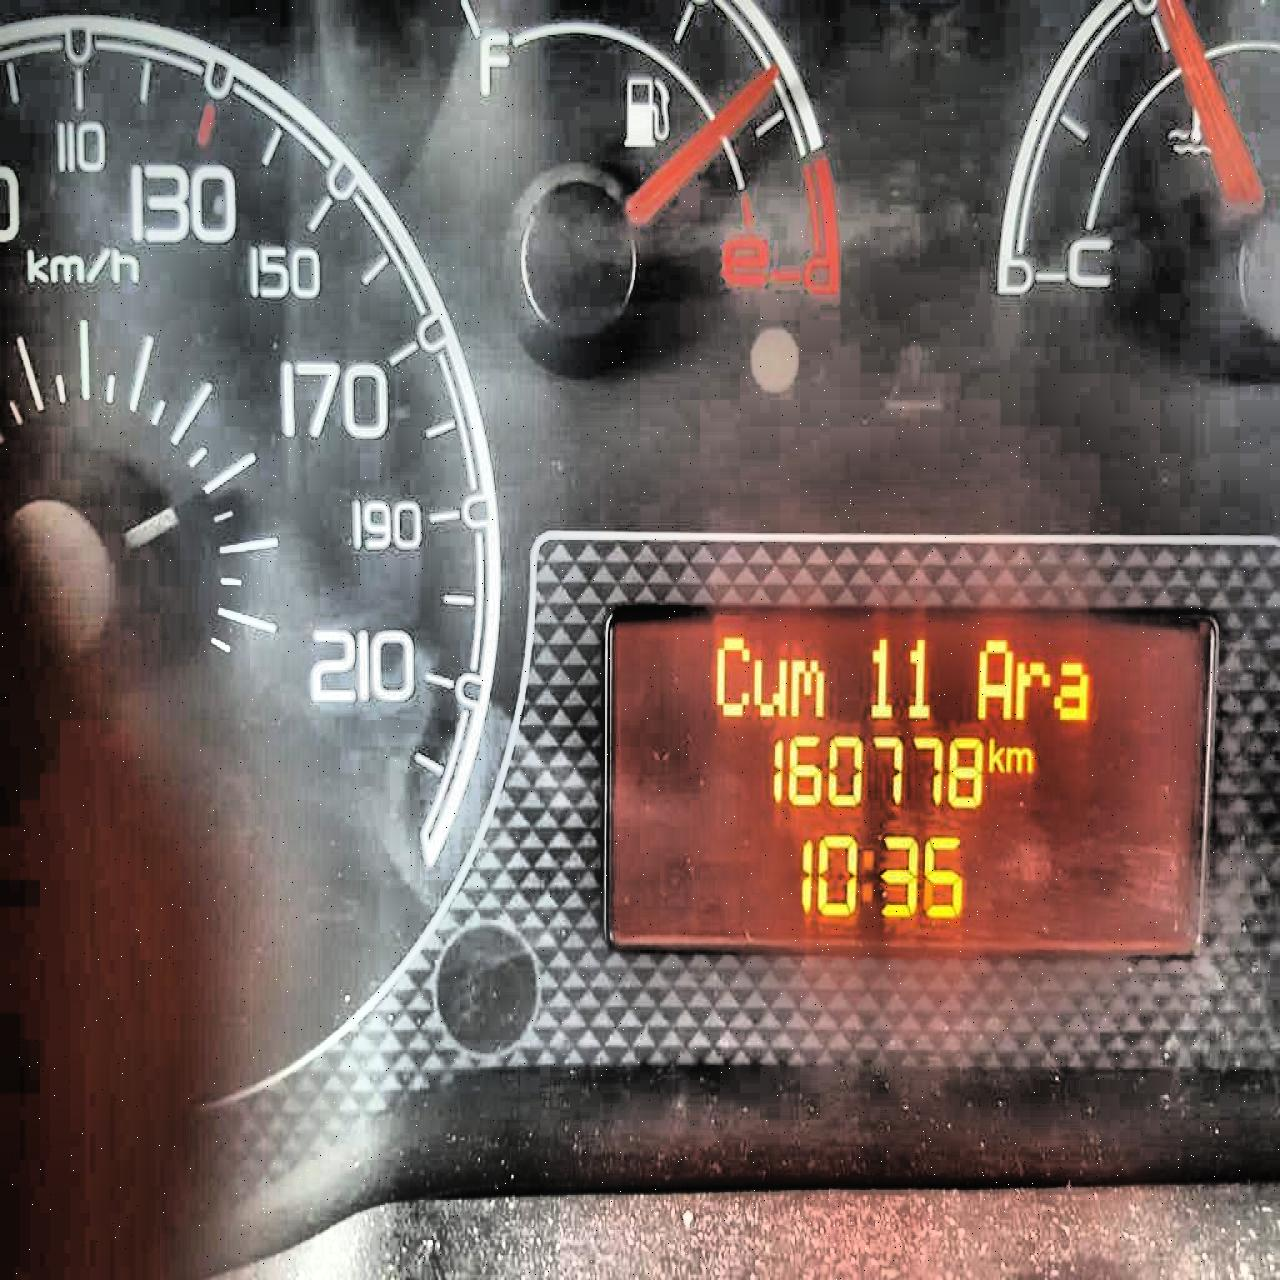0: (815, 832, 857, 920), (826, 731, 864, 810)
1: (869, 629, 897, 723), (904, 628, 930, 722), (770, 728, 787, 805), (798, 833, 813, 917)
3: (880, 832, 918, 920)
5: (922, 833, 962, 921)
6: (788, 731, 823, 809)
7: (910, 730, 942, 803), (870, 731, 903, 802)
8: (946, 731, 982, 810)
X: (712, 632, 750, 719), (975, 633, 1013, 720), (1050, 656, 1094, 727), (750, 652, 787, 720), (1015, 652, 1049, 723), (789, 653, 826, 716), (1005, 743, 1034, 775), (859, 844, 872, 904), (987, 734, 1003, 774)
odometer: (599, 594, 1219, 959)
